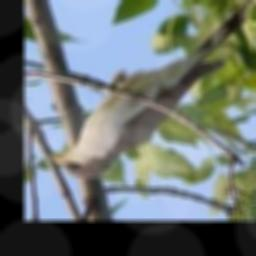Cuckoo: (49, 0, 256, 178)
